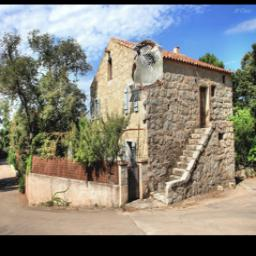Sparrow: (129, 39, 163, 103)
